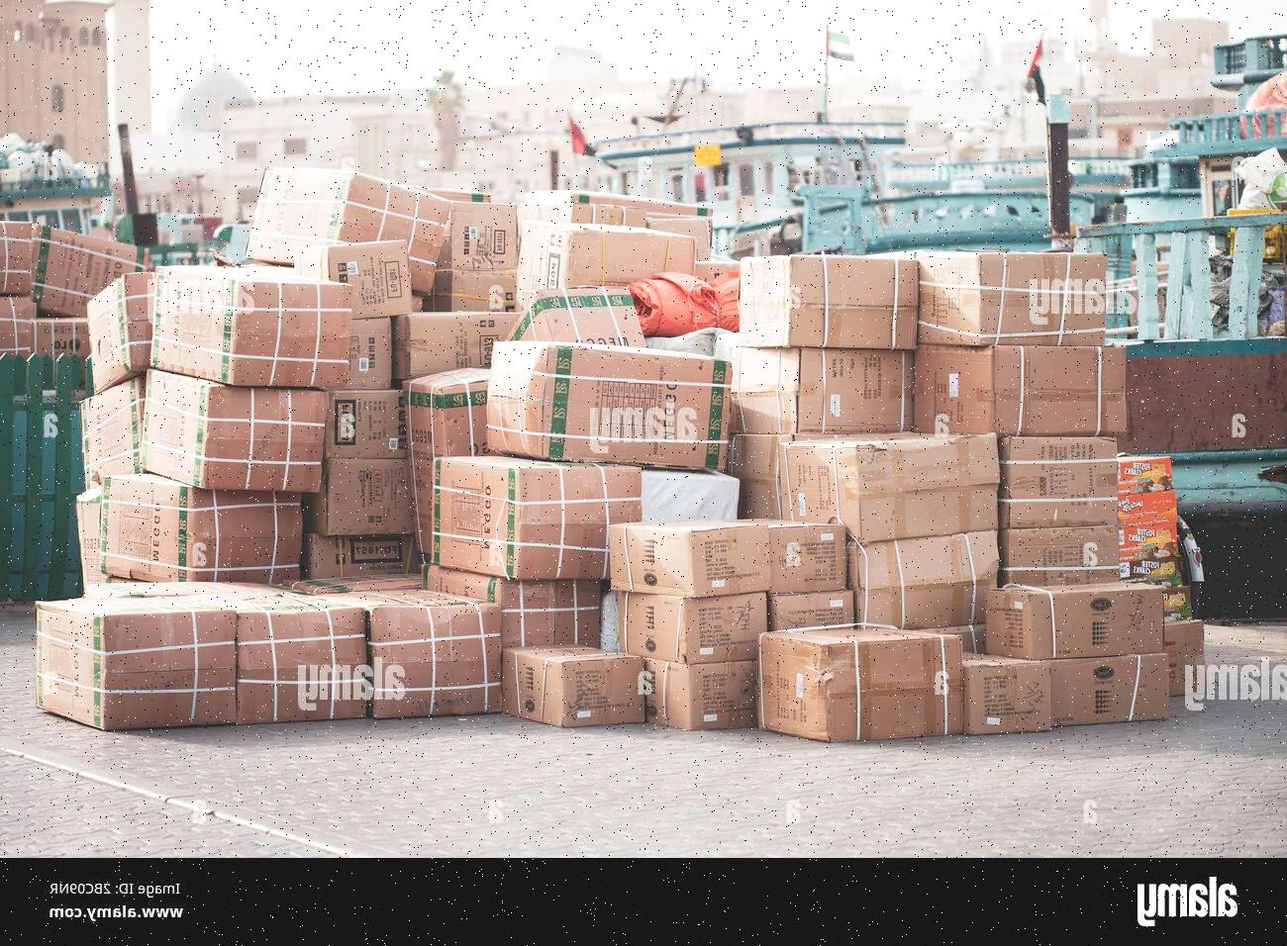Box: (488, 342, 731, 470), (38, 598, 236, 729), (432, 455, 641, 579), (246, 166, 450, 291), (152, 266, 352, 389), (779, 432, 1000, 541), (759, 626, 963, 741), (141, 369, 329, 492), (101, 472, 302, 583), (915, 344, 1126, 435), (356, 590, 503, 719), (229, 593, 375, 722), (915, 251, 1106, 345), (739, 254, 917, 348), (731, 347, 915, 433), (518, 221, 696, 307), (850, 530, 998, 628), (425, 565, 601, 647), (985, 583, 1164, 660), (608, 520, 772, 598), (503, 646, 644, 726), (998, 437, 1119, 526), (620, 593, 767, 662), (430, 202, 518, 312), (33, 226, 138, 317), (294, 241, 412, 318), (1051, 653, 1169, 726), (392, 312, 518, 379), (304, 457, 412, 535), (508, 286, 646, 345), (644, 660, 757, 730), (88, 271, 152, 392), (405, 369, 489, 459), (998, 525, 1119, 584), (963, 653, 1051, 732), (80, 379, 143, 487), (324, 389, 406, 457), (770, 520, 847, 592), (302, 533, 407, 578), (1164, 618, 1204, 696), (347, 319, 391, 388), (0, 221, 33, 296), (0, 296, 35, 356)
